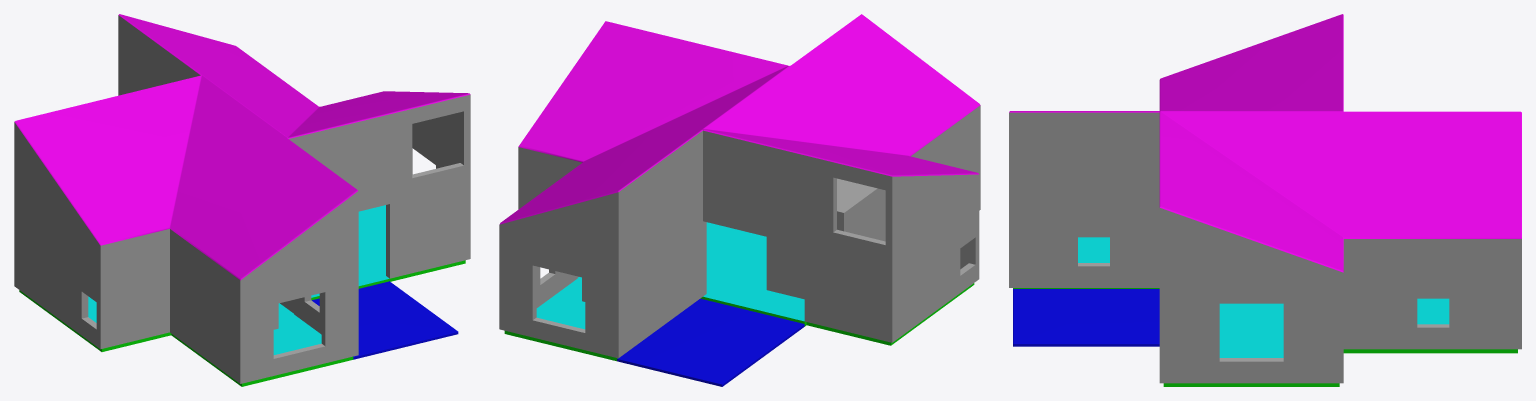
The model's file is Structure.fbx.
3 renders of one model, left to right at view 1: azimuth 30°, elevation 25°; view 2: azimuth 150°, elevation 25°; view 3: azimuth 270°, elevation 25°, orthographic. The views are drawn at different scales.
Parts seen in each view (by area): view 1: Wall_Main, Mesh57; view 2: Wall_Main, Mesh57, Mesh122; view 3: Wall_Main, Mesh57.
Boxes of the visible parts, x1,y1,x2,y2 form: Wall_Main: [14, 14, 470, 383]; Mesh57: [19, 205, 465, 386]; Wall_Main: [499, 14, 980, 358]; Mesh57: [504, 222, 974, 386]; Mesh122: [582, 178, 885, 301]; Wall_Main: [1009, 14, 1521, 383]; Mesh57: [1013, 237, 1517, 386].
Size of the model in its own units: 1141 by 503 by 1283.
